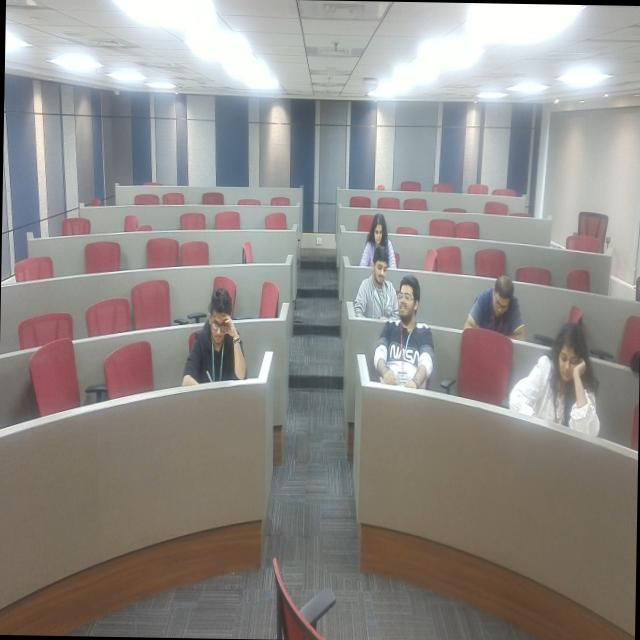cheating: (380, 268, 441, 408)
non-cheating: (525, 288, 601, 452), (175, 278, 250, 432), (466, 242, 519, 356), (356, 247, 394, 321), (366, 198, 397, 256)
